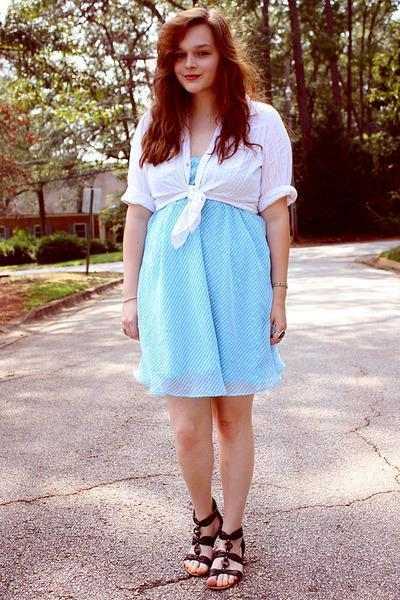dress: (137, 173, 283, 396)
shirt: (121, 94, 297, 213)
shoe: (184, 527, 260, 590)
